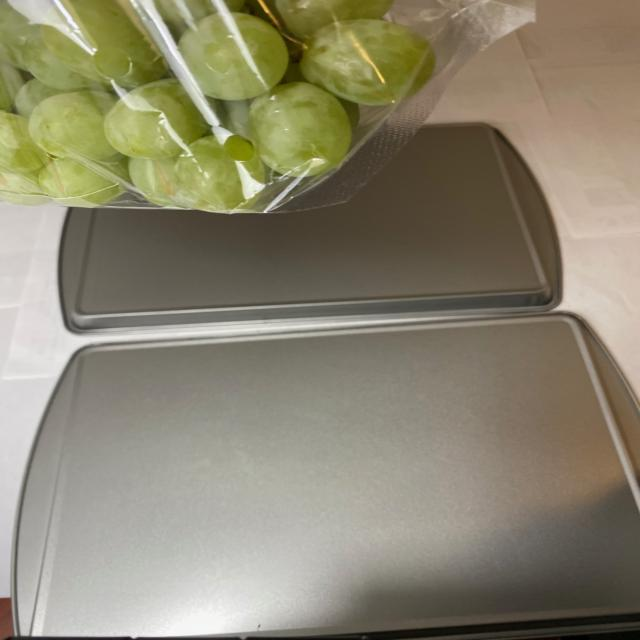grapes: (2, 5, 446, 222)
